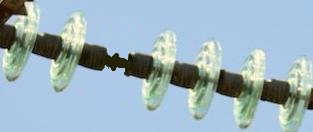gap: (48, 7, 179, 114)
